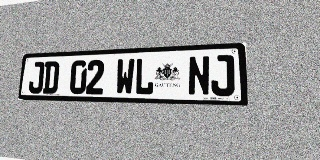0: (69, 60, 87, 94)
2: (86, 59, 104, 94)
D: (42, 61, 60, 94)
J: (211, 55, 235, 96), (28, 62, 45, 93)
L: (134, 57, 154, 95)
N: (188, 55, 210, 96)
W: (115, 58, 135, 95)
